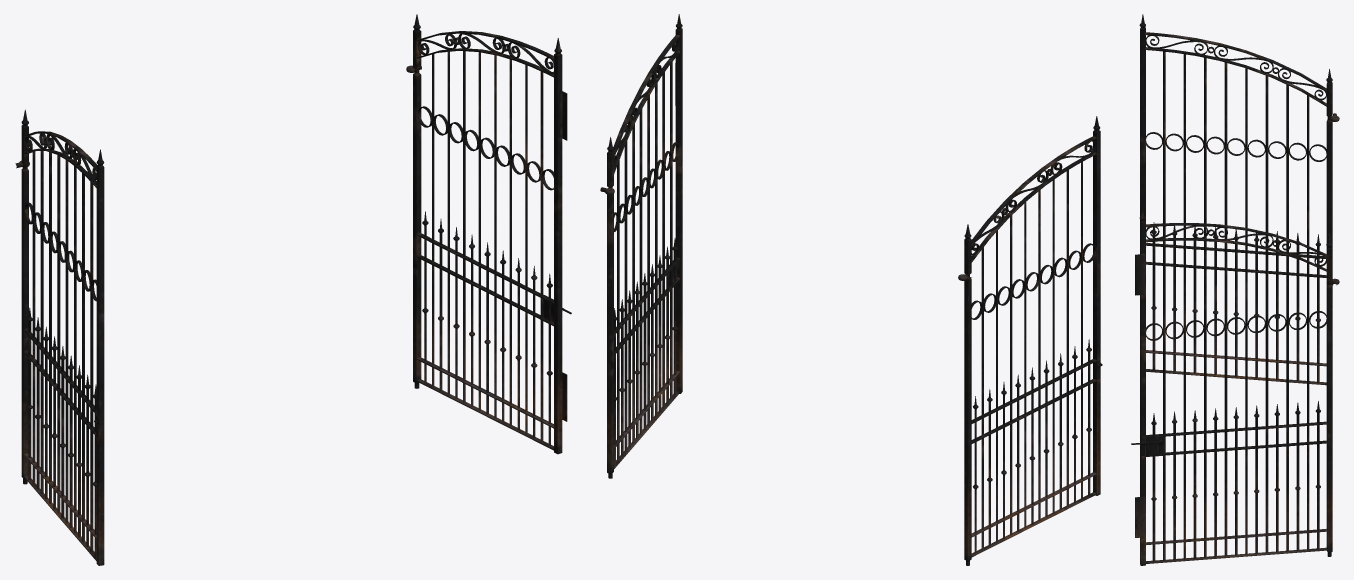
File: gate.glb
3 renders of one model, left to right at view 1: azimuth 30°, elevation 25°; view 2: azimuth 150°, elevation 25°; view 3: azimuth 270°, elevation 25°, orthographic. The views are drawn at different scales.
Parts seen in each view (by area): view 1: large_iron_gate_right_door, large_iron_gate_left_door; view 2: large_iron_gate_left_door, large_iron_gate_right_door; view 3: large_iron_gate_right_door, large_iron_gate_left_door.
Boxes of the visible parts, x1,y1,x2,y2 form: large_iron_gate_right_door: (413, 14, 567, 454); large_iron_gate_left_door: (21, 109, 104, 565); large_iron_gate_left_door: (964, 116, 1102, 565); large_iron_gate_right_door: (607, 14, 682, 478); large_iron_gate_right_door: (1135, 207, 1332, 565); large_iron_gate_left_door: (1139, 14, 1332, 385).
Size of the model in its own units: 3.43 by 2.93 by 1.52.
Materials: 1 (1 with a texture image).
